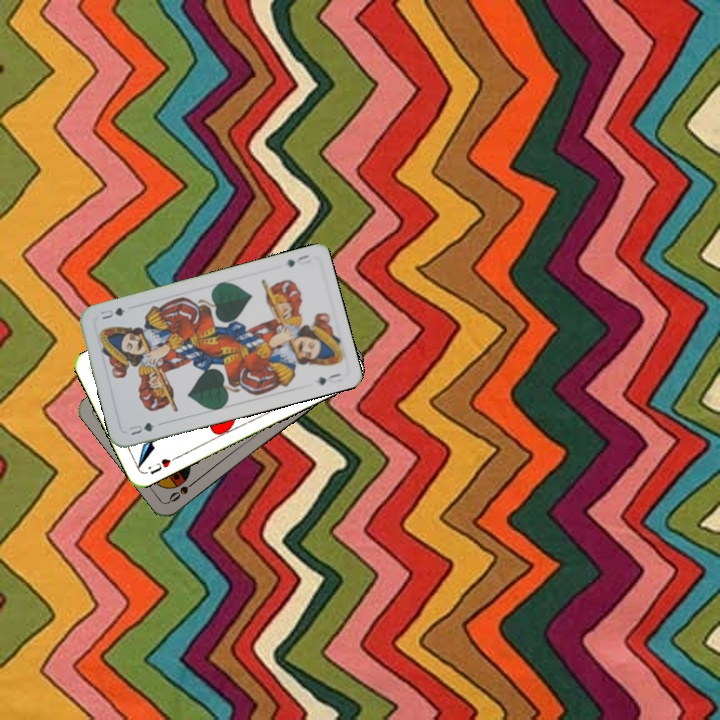GU: (125, 418, 157, 438), (283, 250, 313, 270)
HU: (146, 452, 180, 477)
SO: (165, 475, 200, 505)
